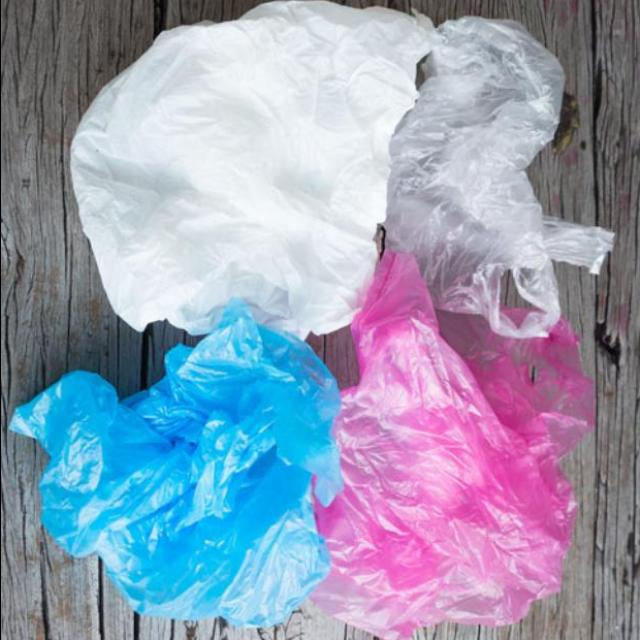plastik: (71, 1, 434, 338), (312, 252, 593, 640), (10, 302, 341, 626), (384, 17, 612, 337)
